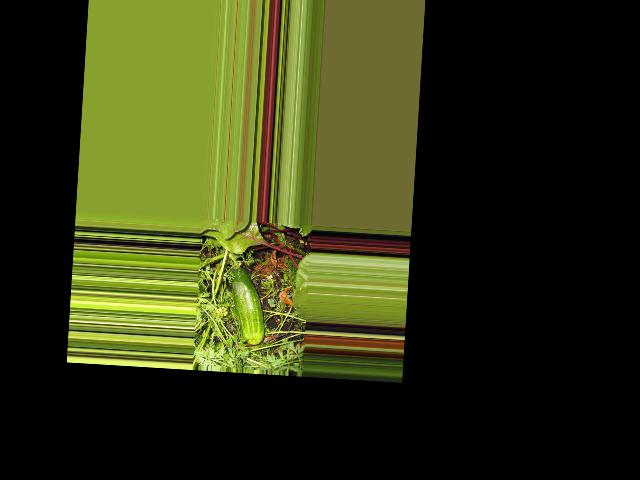cucumber: (226, 266, 268, 344)
